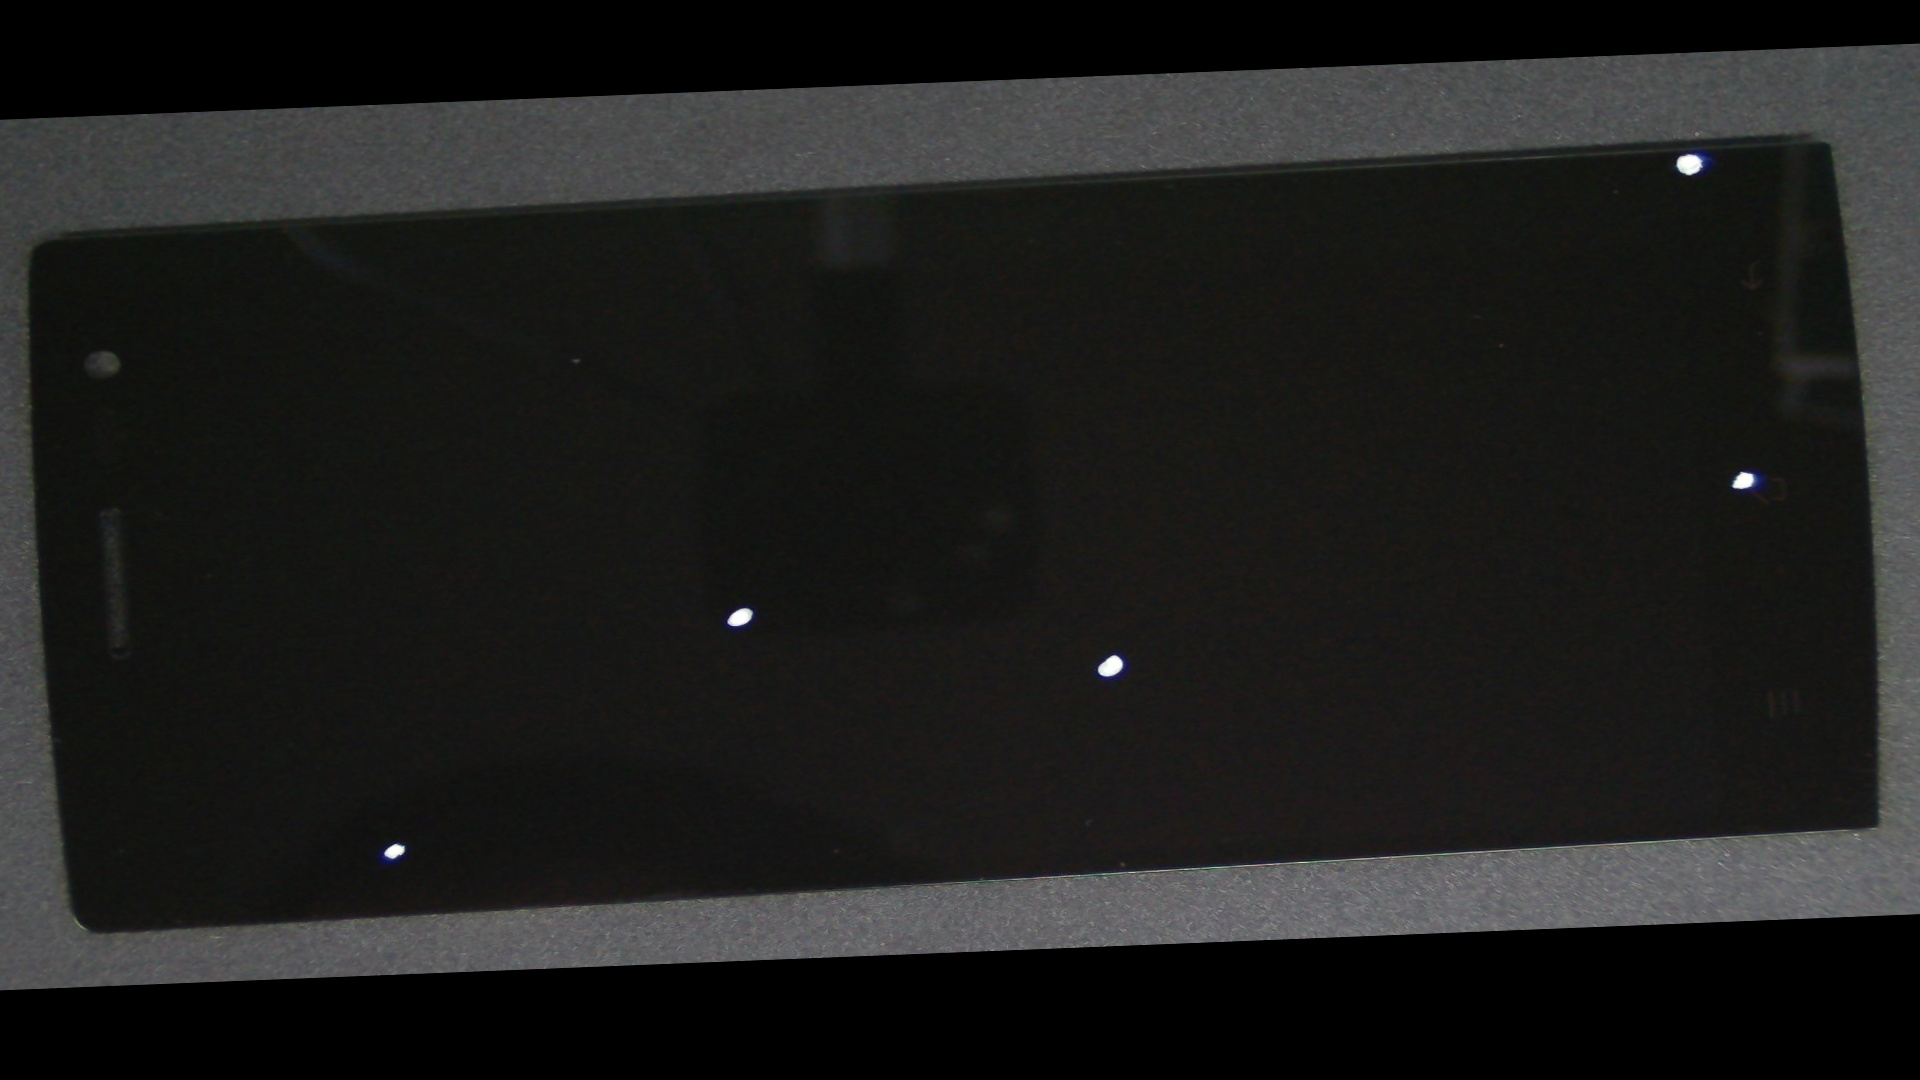oil: (510, 342, 1718, 967), (823, 252, 1920, 717), (324, 332, 1162, 881), (152, 464, 632, 984), (796, 92, 1920, 239)
